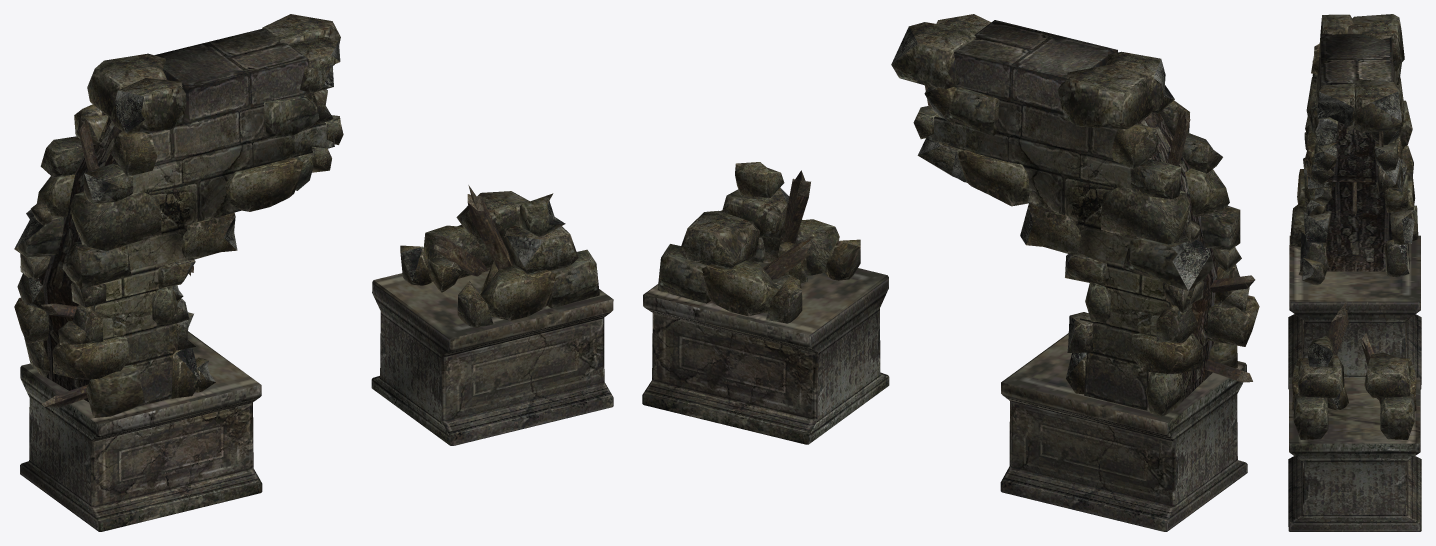
Rendered from Ruin.FBX.
3 renders of one model, left to right at view 1: azimuth 30°, elevation 25°; view 2: azimuth 150°, elevation 25°; view 3: azimuth 270°, elevation 25°, orthographic. The views are drawn at different scales.
Parts seen in each view (by area): view 1: ASE_Ruin_B_Module_06_SM; view 2: ASE_Ruin_B_Module_06_SM; view 3: ASE_Ruin_B_Module_06_SM.
Boxes of the visible parts, x1=… form: ASE_Ruin_B_Module_06_SM: x1=14, y1=14, x2=613, y2=531; ASE_Ruin_B_Module_06_SM: x1=642, y1=14, x2=1259, y2=531; ASE_Ruin_B_Module_06_SM: x1=1288, y1=14, x2=1421, y2=531.
Size of the model in its own units: 215 by 153 by 54.73.
